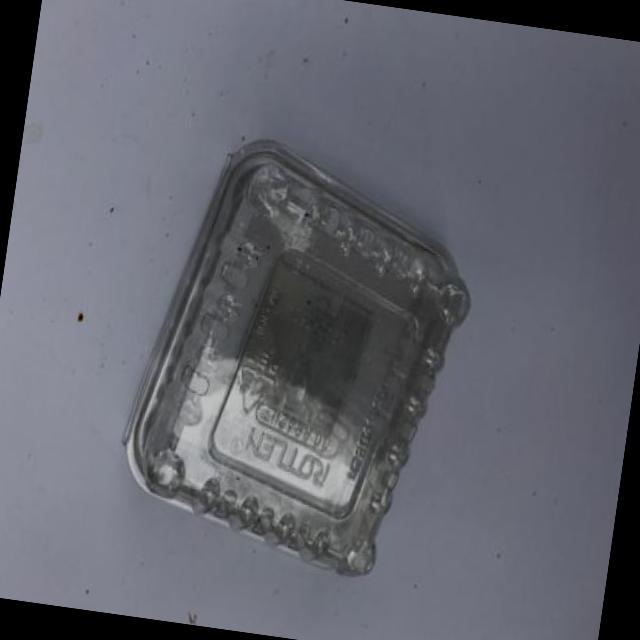Recycle: (113, 127, 490, 593)
